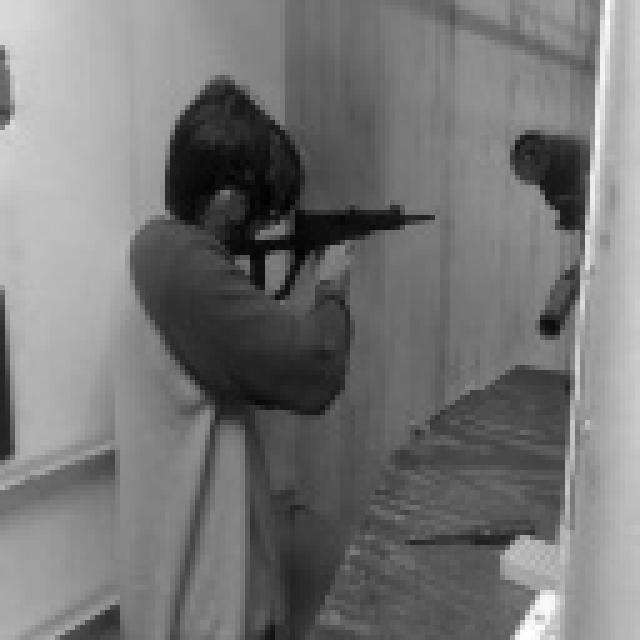Rifle: (193, 158, 460, 342)
